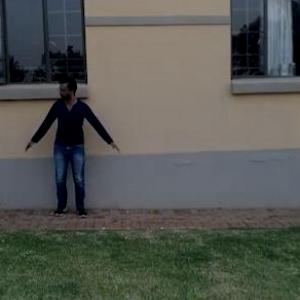land: (32, 69, 129, 233)
